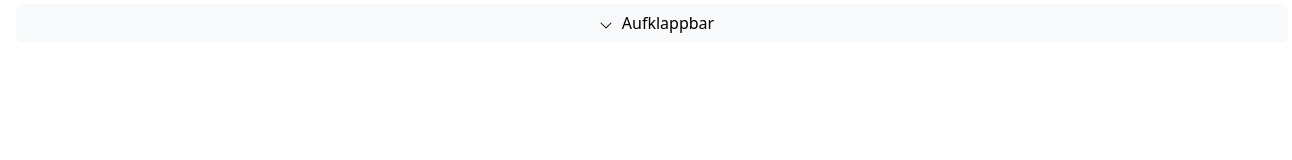
Test: CollapseComponent › should toggle open/closed on click
The image size is (1292, 160).
Click the button "Aufklappbar".
click(652, 23)  # box left=16, top=4, right=1288, bottom=42
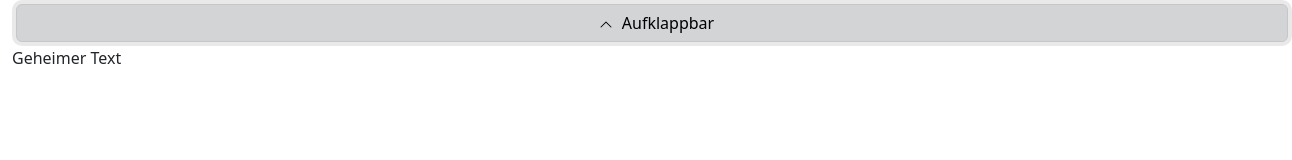
Expected: the button "Aufklappbar" is expanded
Click the button "Aufklappbar".
click(652, 23)  # box left=16, top=4, right=1288, bottom=42
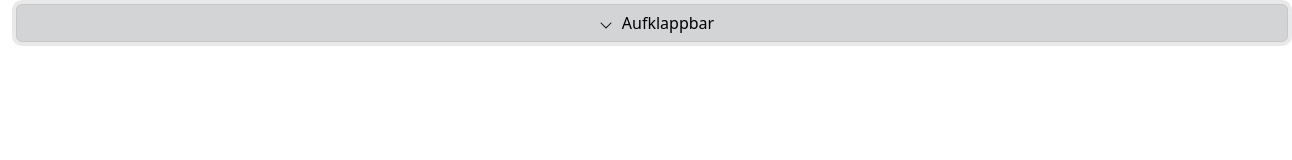
Expected: the button "Aufklappbar" is collapsed, left=16, top=4, right=1288, bottom=42
